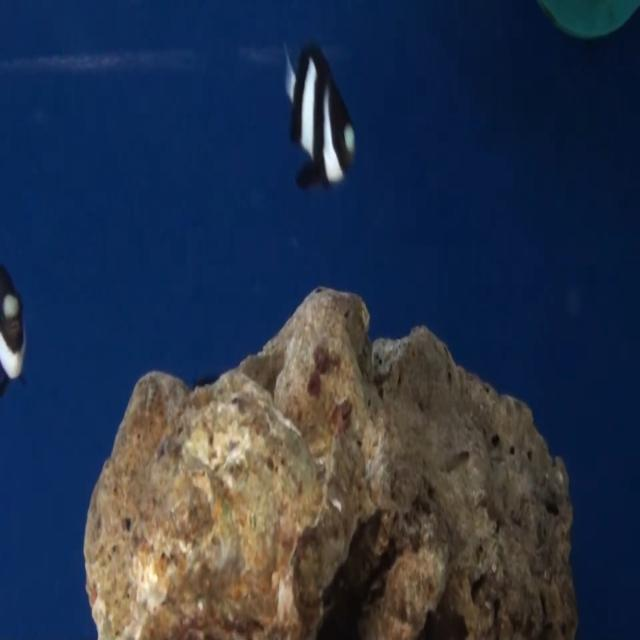ThreeStripedDamselfish: (288, 43, 357, 190)
